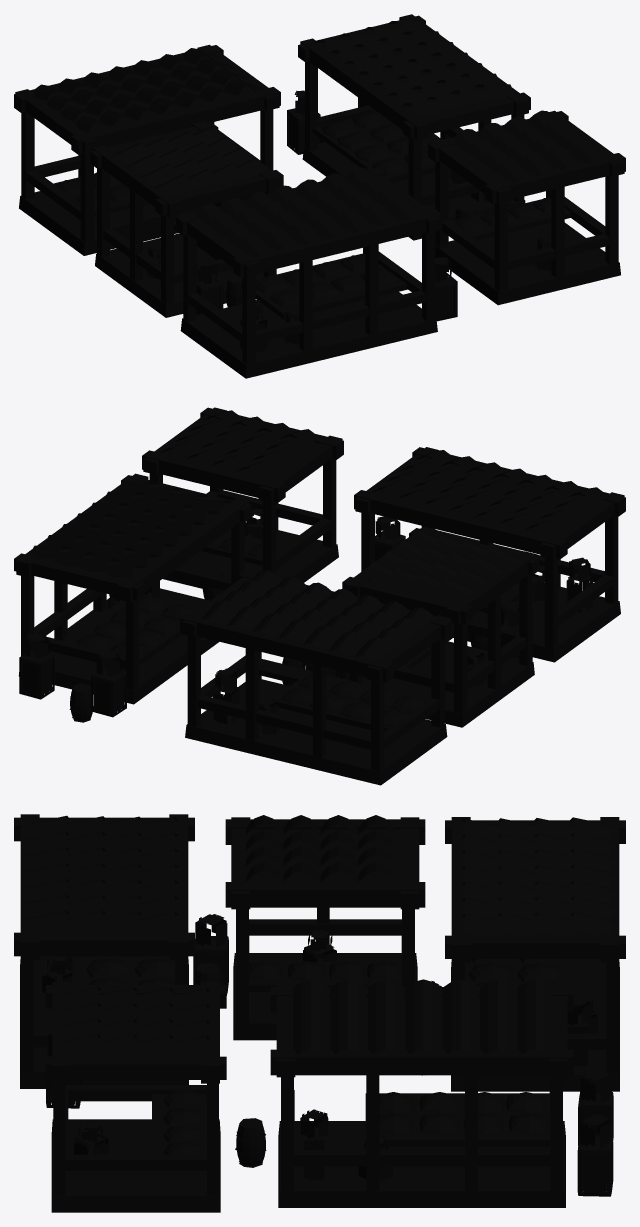
File: pp_market_stalls.fbx
3 renders of one model, top to bottom at view 1: azimuth 30°, elevation 25°; view 2: azimuth 150°, elevation 25°; view 3: azimuth 270°, elevation 25°, orthographic. The views are drawn at different scales.
Parts seen in each view (by area): view 1: pp_market_stalls_LOD0; view 2: pp_market_stalls_LOD0; view 3: pp_market_stalls_LOD0.
Boxes of the visible parts, x1,y1,x2,y2 form: pp_market_stalls_LOD0: [14, 14, 625, 378]; pp_market_stalls_LOD0: [14, 407, 625, 785]; pp_market_stalls_LOD0: [14, 814, 625, 1212].
Size of what is drawn, in the model's own units: 7.65 by 2.6 by 7.86.
Materials: 1 (1 with a texture image).
